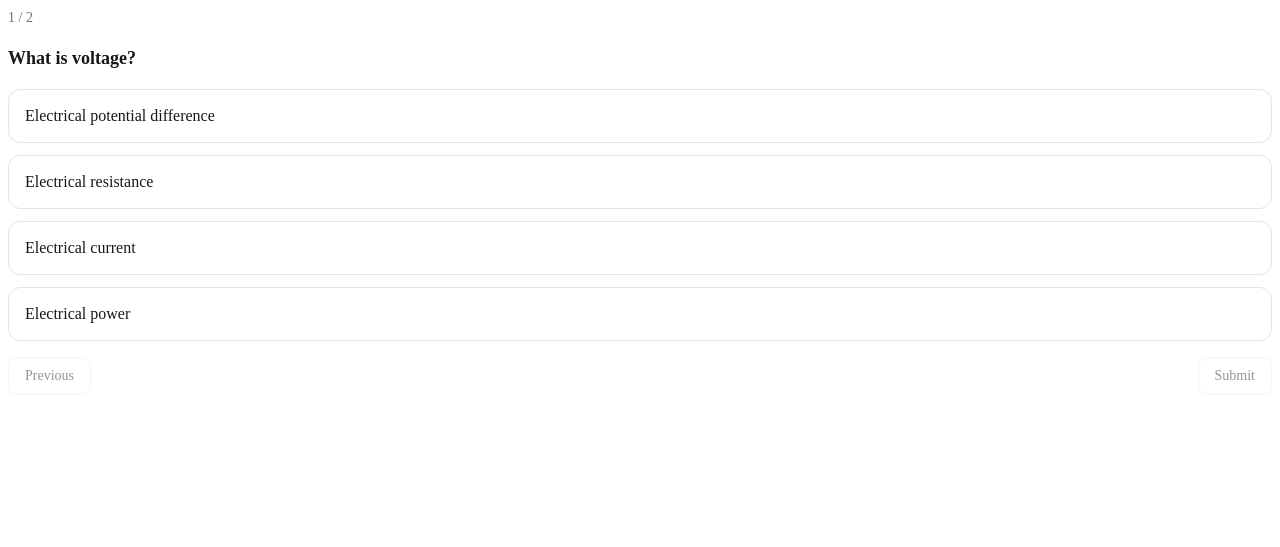
Quiz › shows correct/incorrect message
Click the button "Electrical potential difference" at (120, 115), box [8, 89, 1272, 143]
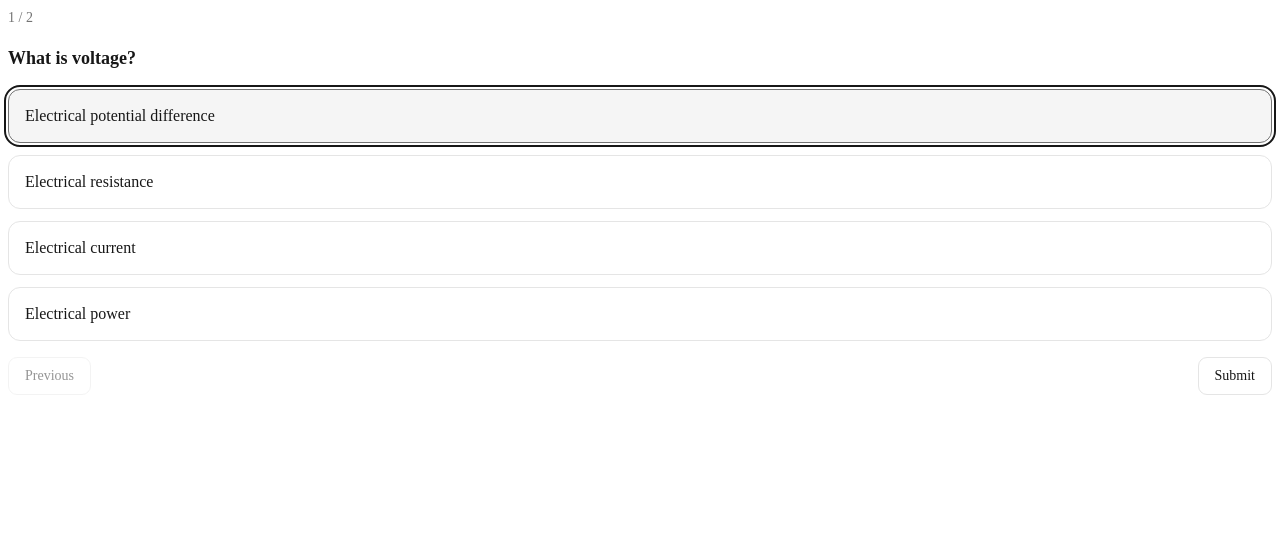
Click the button "Submit" at (1235, 376), box [1198, 357, 1272, 395]
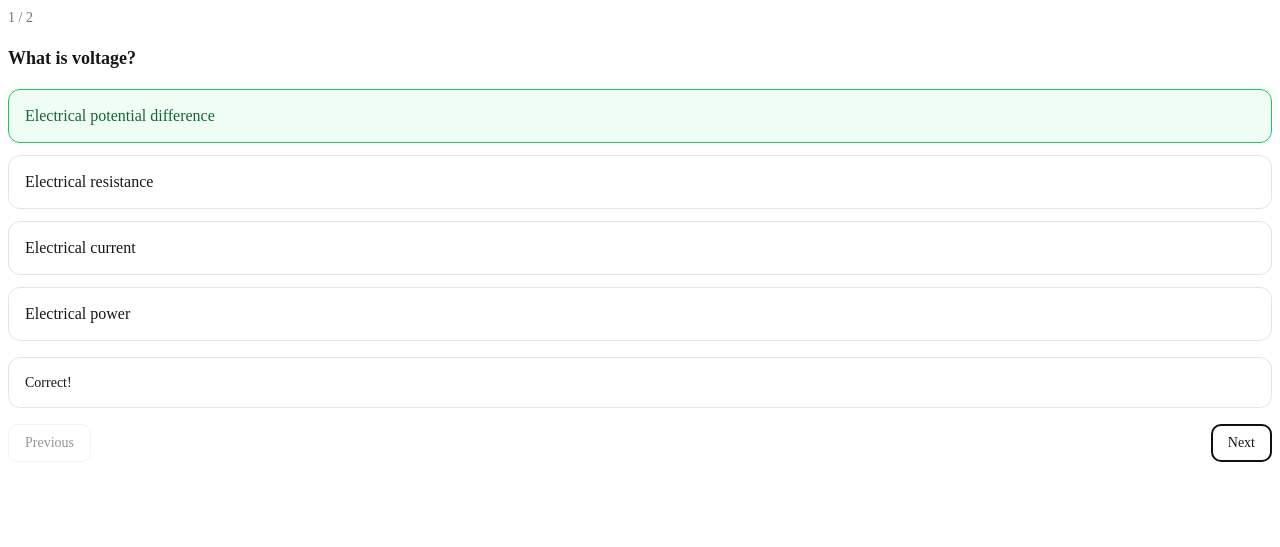
expect the text "Correct!" is shown: met, box [8, 357, 1272, 408]
Click the button "Next" at (1241, 443), box [1211, 424, 1272, 462]
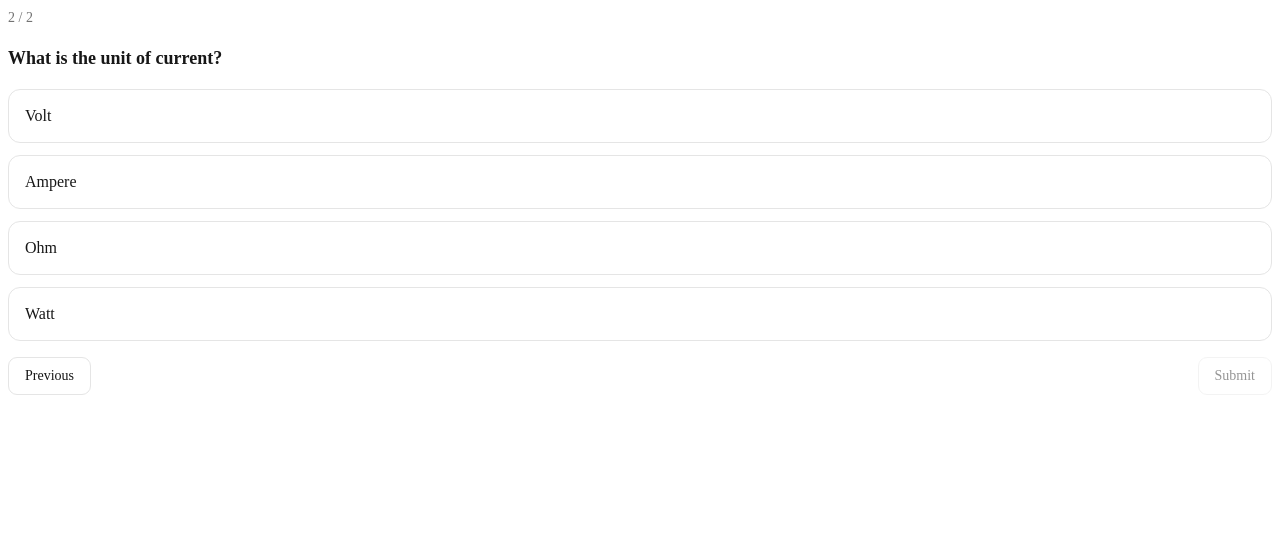
Click the button "Volt" at (38, 115), box [8, 89, 1272, 143]
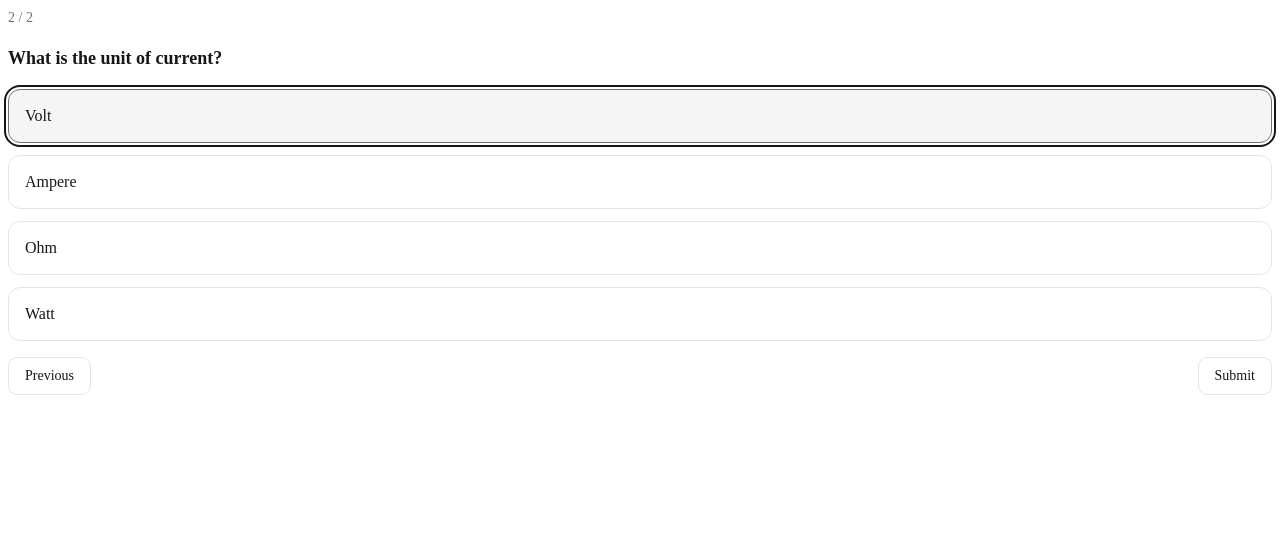
Click the button "Submit" at (1235, 376), box [1198, 357, 1272, 395]
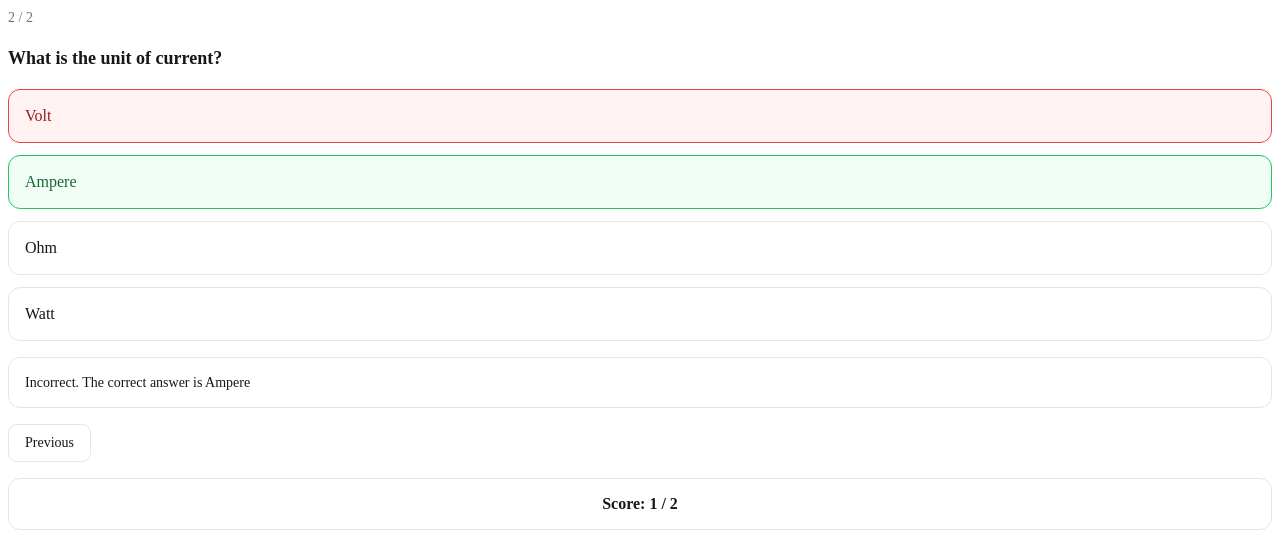
expect the text "Incorrect. The correct answer is Ampere" is shown: met, box [8, 357, 1272, 408]
